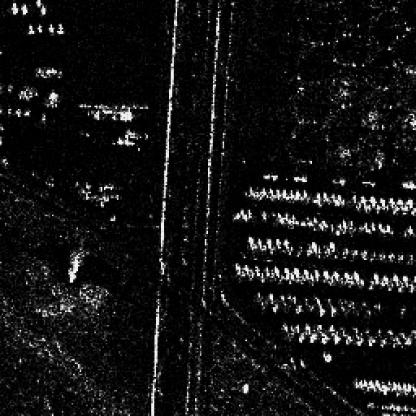airplane: (57, 13, 63, 34), (10, 0, 18, 13), (26, 24, 36, 34), (47, 22, 54, 32), (39, 6, 47, 14), (36, 25, 42, 32), (34, 0, 42, 5)
